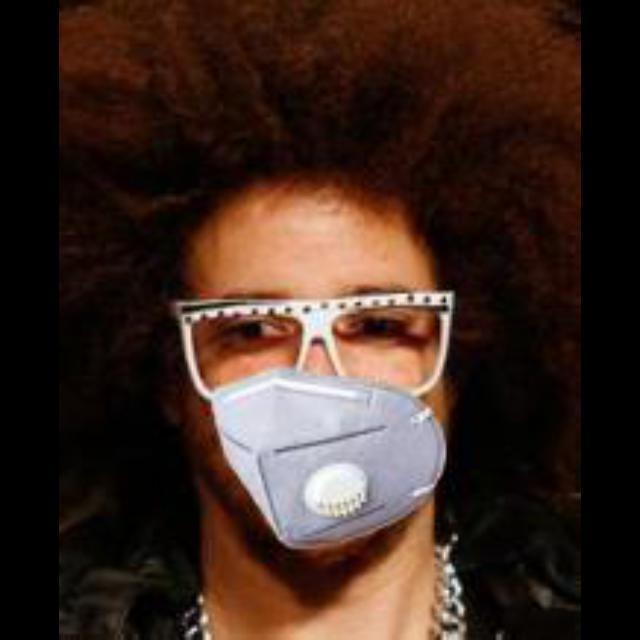suspicion: (152, 163, 512, 574)
